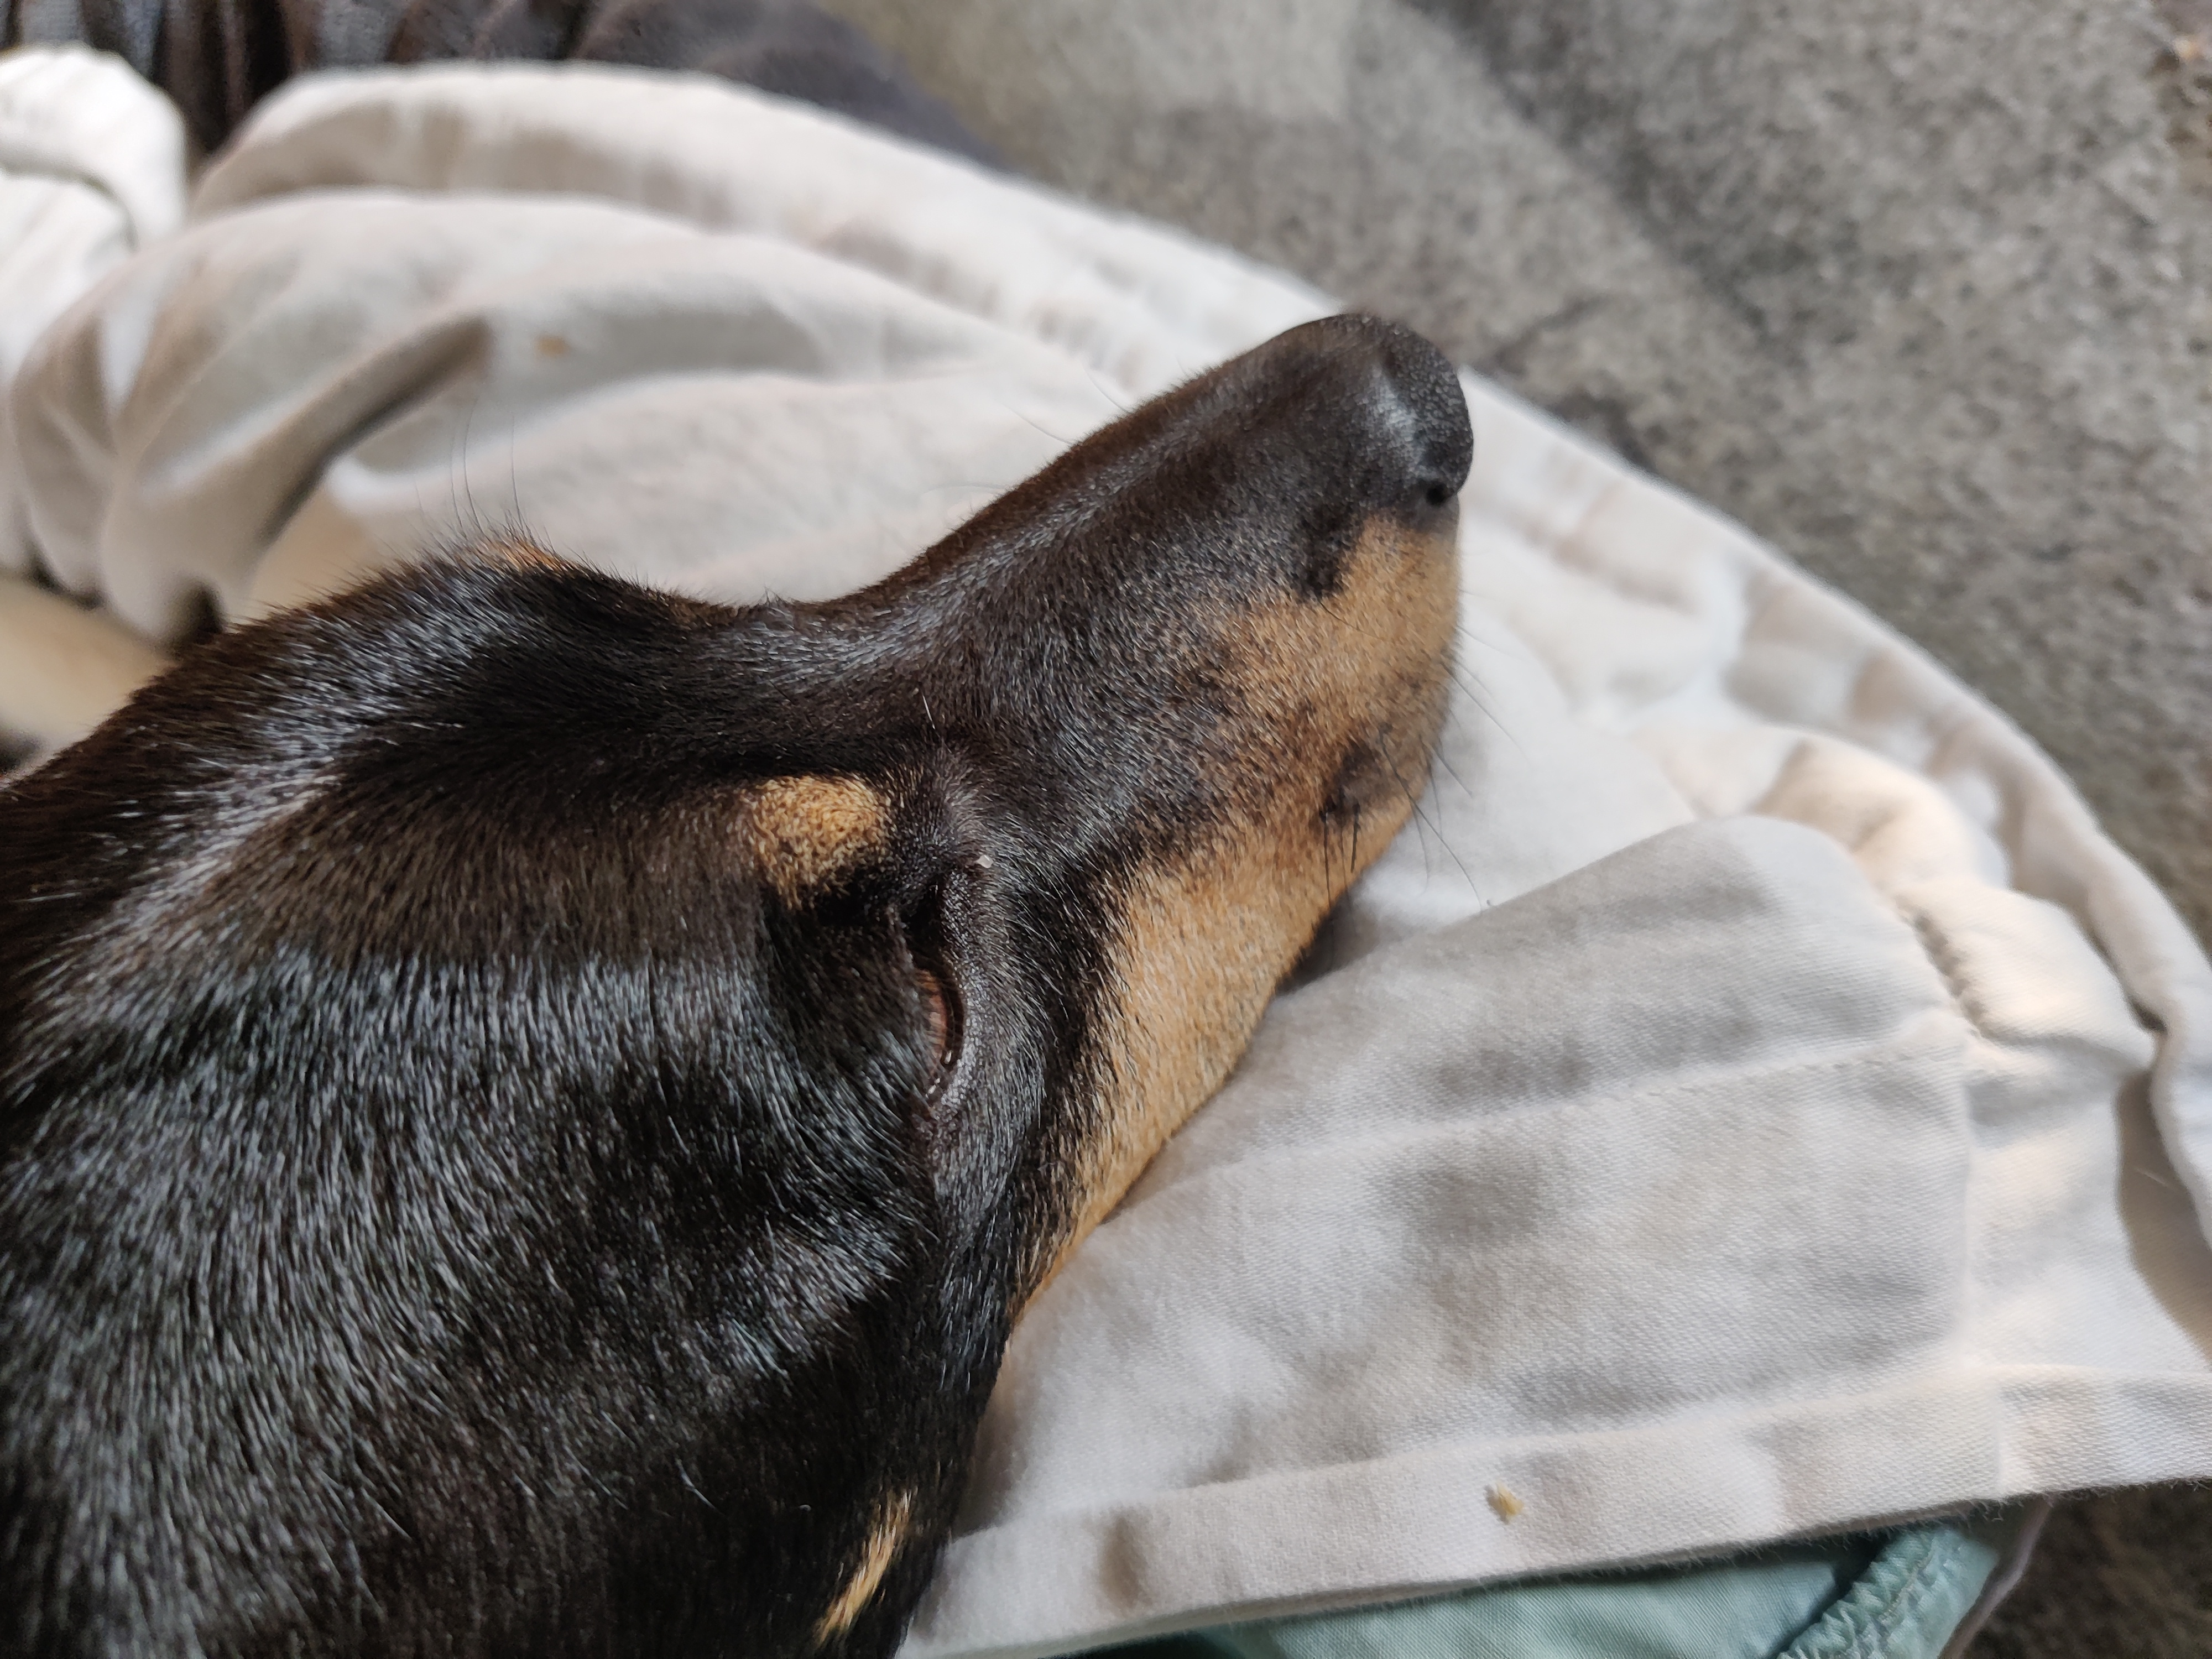Dog: (0, 289, 1489, 1659)
